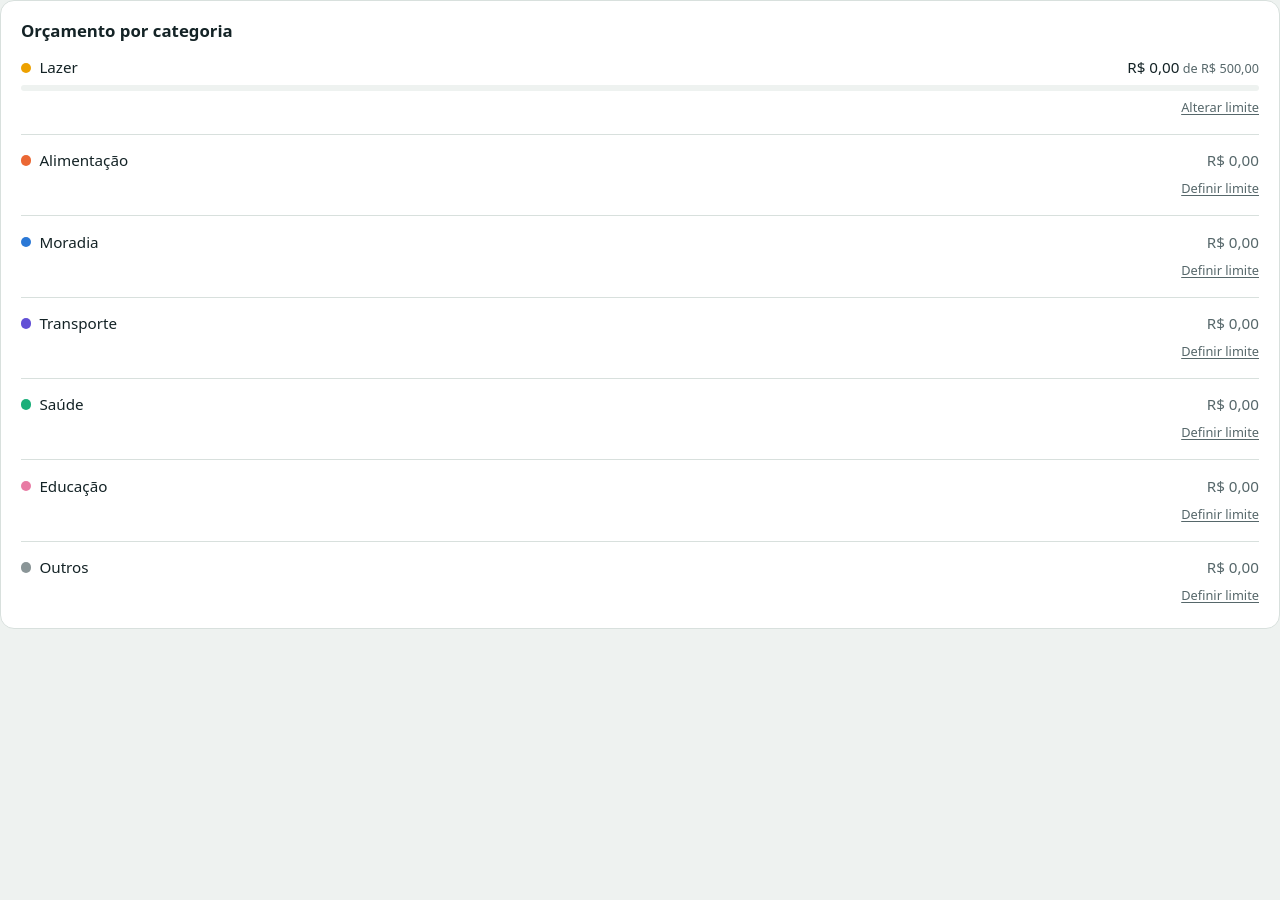
Test: BudgetPanel › altera o limite partindo do valor atual
The width and height of the screenshot is (1280, 900).
Later steps or results of the test are not shown.
What coordinates should you click on to do the following:
click the button with aria-label "Alterar limite de Lazer"
I would click on:
 (1220, 108)
Its box is [1181, 96, 1259, 120].
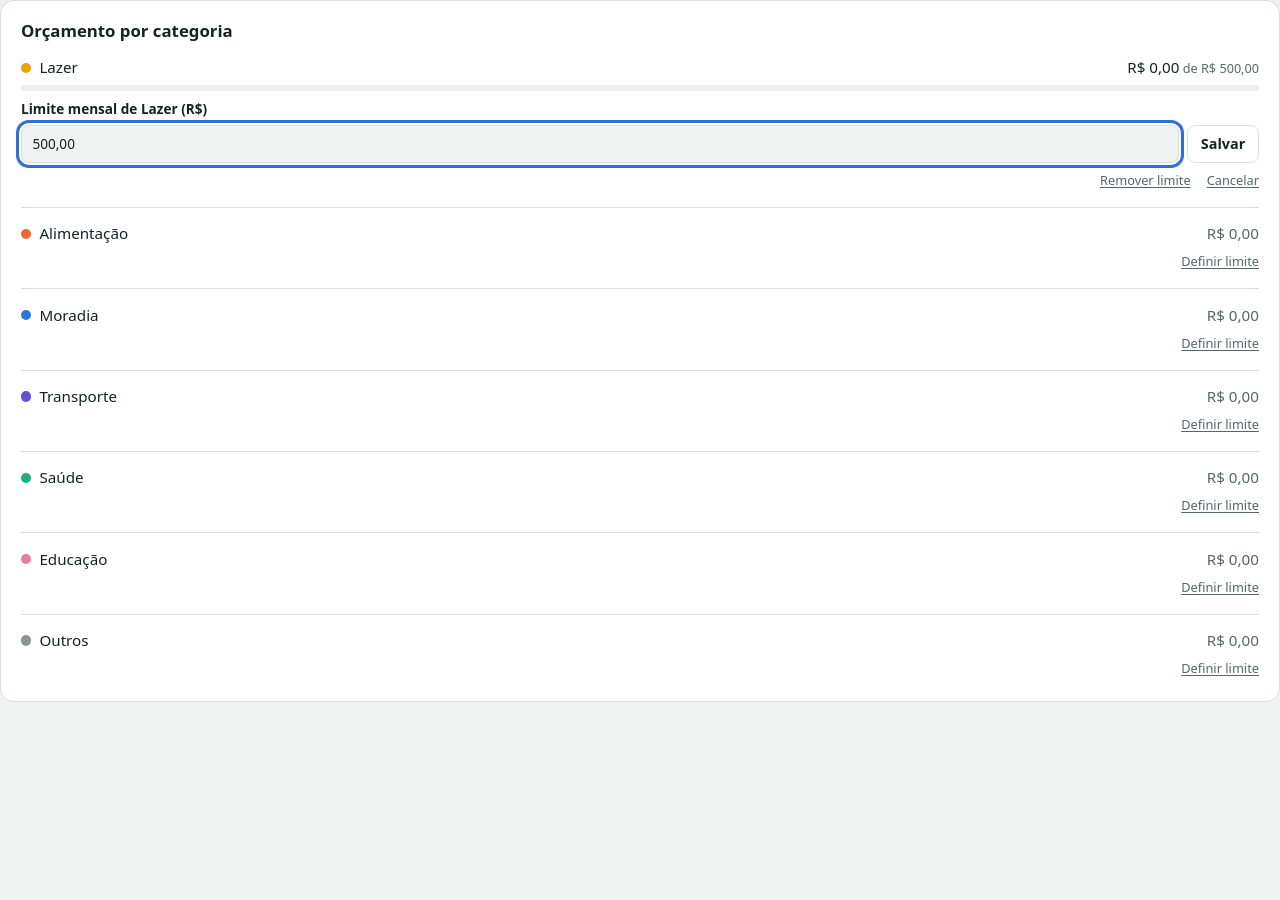
Now the field labelled "Limite mensal de Lazer (R$)" holds "500,00", box [21, 125, 1179, 163]
